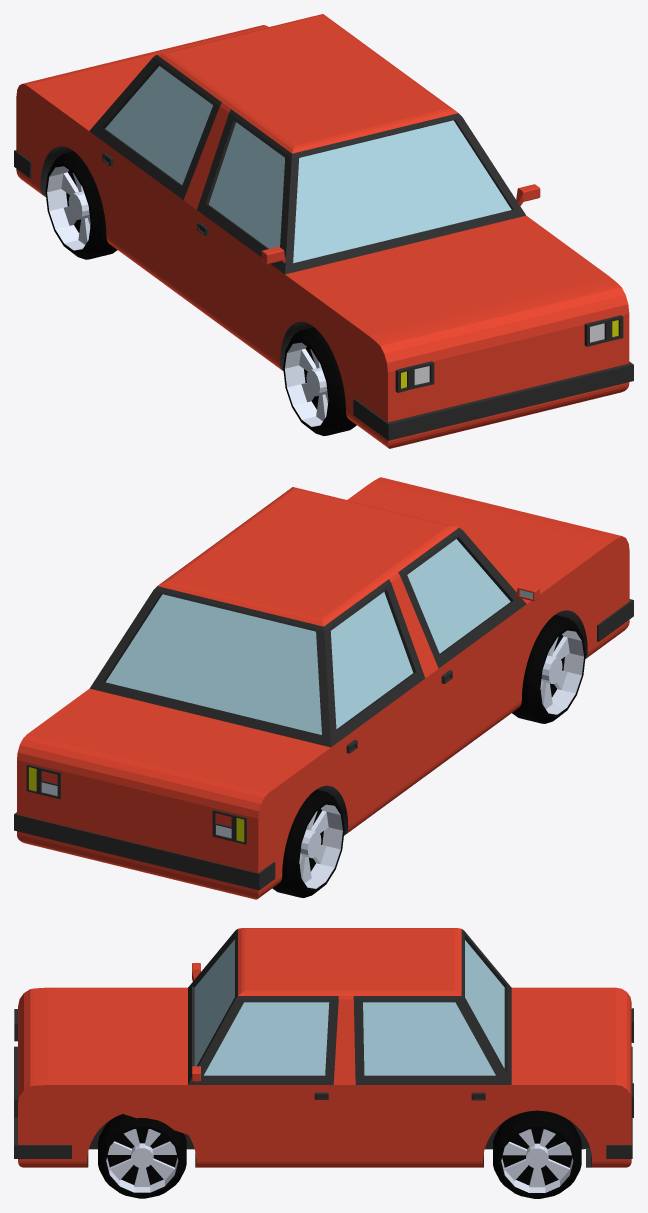
File: Car2.fbx
3 renders of one model, top to bottom at view 1: azimuth 30°, elevation 25°; view 2: azimuth 150°, elevation 25°; view 3: azimuth 270°, elevation 25°, orthographic. The views are drawn at different scales.
Parts seen in each view (by area): view 1: Body, FrontRightWheel, RearRightWheel; view 2: Body, FrontRightWheel, RearRightWheel; view 3: Body, RearLeftWheel, FrontLeftWheel.
Part boxes in pixels (box(x1,y1,x2,y2)): Body: box(14, 14, 633, 448); FrontRightWheel: box(283, 327, 356, 435); RearRightWheel: box(45, 151, 117, 259); Body: box(14, 477, 633, 899); FrontRightWheel: box(512, 615, 585, 723); RearRightWheel: box(272, 789, 344, 897); Body: box(14, 928, 633, 1167); RearLeftWheel: box(493, 1110, 581, 1198); FrontLeftWheel: box(98, 1114, 186, 1198).
Size of the model in its own units: 2.69 by 2.16 by 6.38.
